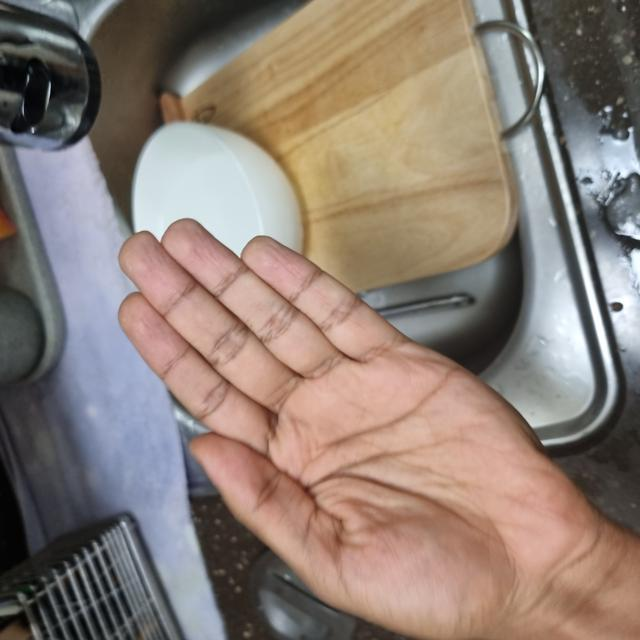Paper: (0, 114, 419, 579)
